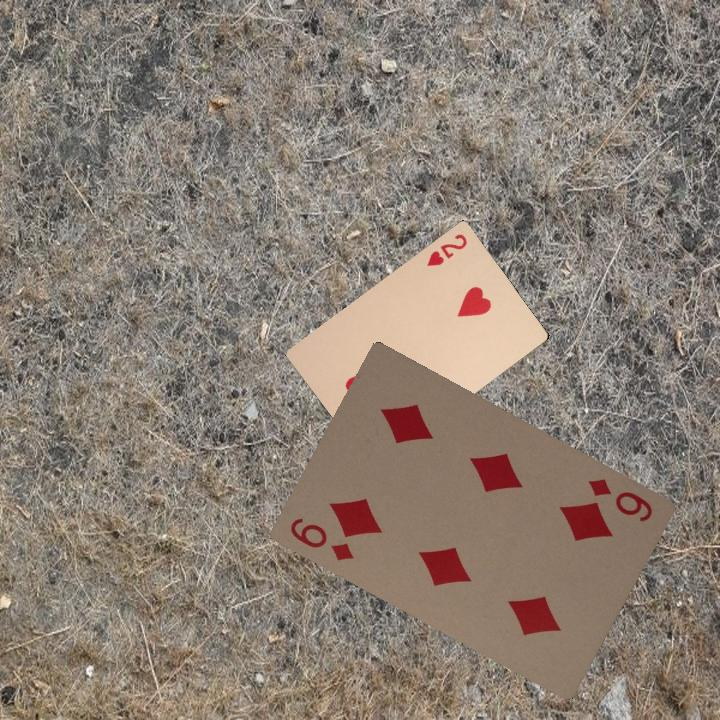2h: (423, 230, 470, 269)
6d: (285, 513, 357, 564), (584, 474, 655, 525)
